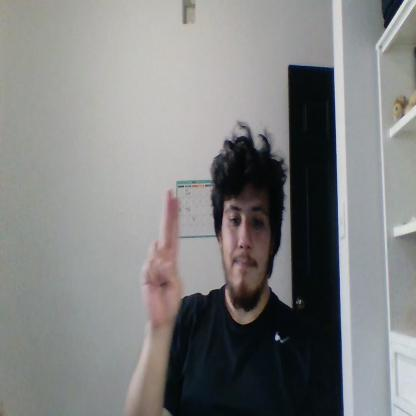U: (142, 187, 182, 325)
